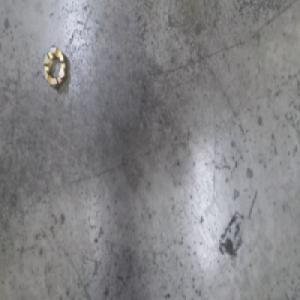Nut: (41, 43, 68, 92)
